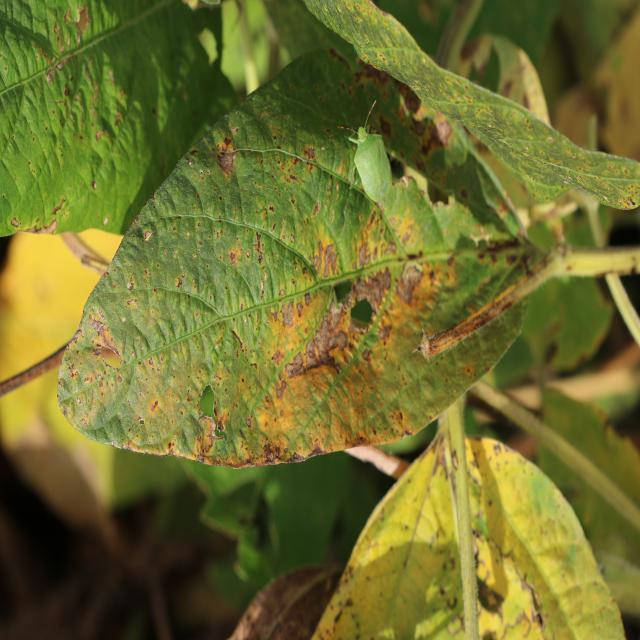Bacterial_Blight: (420, 254, 559, 360), (433, 515, 551, 639), (313, 264, 400, 366), (252, 141, 317, 217), (41, 5, 95, 81), (353, 205, 406, 274), (86, 315, 123, 370), (419, 119, 449, 157), (311, 240, 339, 279), (199, 416, 218, 453), (284, 351, 307, 378), (216, 150, 236, 175), (262, 442, 282, 464), (280, 301, 295, 328), (253, 233, 265, 262), (275, 378, 288, 400), (270, 348, 285, 367), (283, 451, 306, 463), (52, 197, 66, 215), (303, 145, 315, 160), (10, 217, 20, 228)
Soybean: (58, 51, 547, 468)
